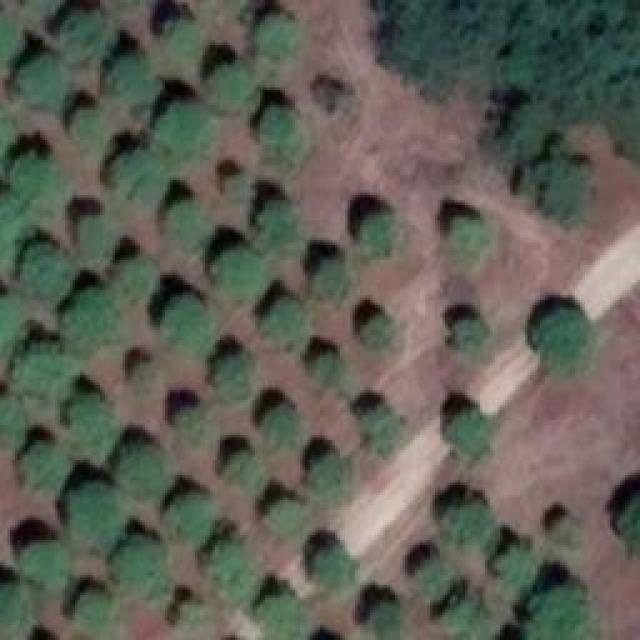Tree: (528, 305, 593, 380), (70, 480, 128, 548), (210, 242, 268, 310), (23, 238, 76, 303), (527, 587, 592, 640), (67, 390, 115, 458), (540, 163, 590, 228), (15, 50, 70, 108), (110, 537, 165, 595), (158, 293, 211, 353), (105, 255, 163, 308), (118, 145, 173, 200), (64, 302, 115, 360), (253, 10, 306, 63), (15, 345, 68, 398), (207, 540, 255, 598), (13, 153, 68, 203), (123, 438, 173, 493), (160, 100, 213, 150), (22, 533, 70, 588), (168, 195, 211, 255), (208, 60, 261, 108), (18, 438, 68, 488), (60, 8, 105, 63), (255, 105, 310, 150), (448, 405, 493, 460), (167, 493, 215, 543), (255, 592, 303, 640), (210, 348, 253, 401), (363, 405, 408, 455), (252, 200, 300, 245), (310, 542, 355, 590), (410, 555, 455, 603), (310, 448, 353, 498), (448, 215, 491, 265), (75, 585, 115, 638), (440, 503, 493, 543), (160, 15, 200, 65), (113, 50, 153, 100), (270, 298, 305, 353), (78, 208, 118, 253), (355, 210, 395, 253), (495, 548, 535, 591), (0, 390, 30, 445), (440, 602, 483, 640), (265, 498, 305, 538), (70, 105, 105, 150), (263, 403, 298, 448), (305, 253, 340, 296), (0, 193, 25, 253), (360, 312, 398, 350), (0, 288, 25, 343), (620, 490, 638, 565), (368, 602, 403, 640), (0, 580, 25, 630), (0, 8, 20, 68), (223, 450, 256, 485), (175, 403, 208, 438), (453, 315, 488, 345), (130, 358, 158, 391), (312, 355, 340, 388), (553, 518, 583, 548), (0, 110, 15, 155), (228, 173, 248, 203), (183, 600, 203, 630)
